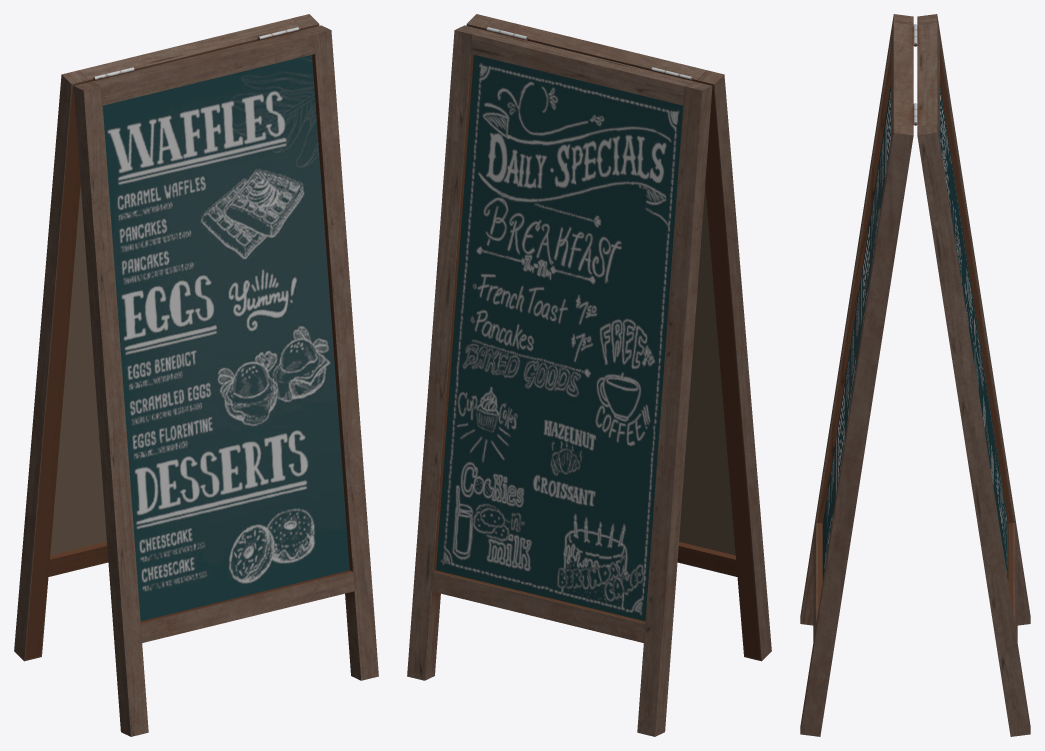
The model's file is Cartel.obj.
3 views of the same model, side by side, from view 1: azimuth 30°, elevation 25°; view 2: azimuth 150°, elevation 25°; view 3: azimuth 270°, elevation 25° (orthographic).
Parts seen in each view (by area): view 1: Chalkboard_sign_V12; view 2: Chalkboard_sign_V12; view 3: Chalkboard_sign_V12.
Part boxes in pixels (x1=…): Chalkboard_sign_V12: x1=14, y1=14, x2=378, y2=736; Chalkboard_sign_V12: x1=407, y1=14, x2=771, y2=736; Chalkboard_sign_V12: x1=800, y1=14, x2=1030, y2=736.
Size of the model in its own units: 16.54 by 39.18 by 13.51.
